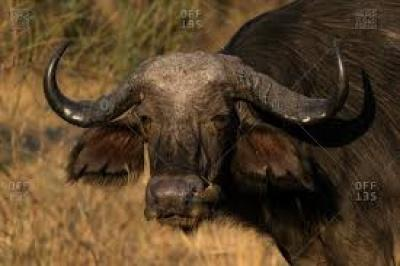buffalo: (44, 0, 400, 266)
